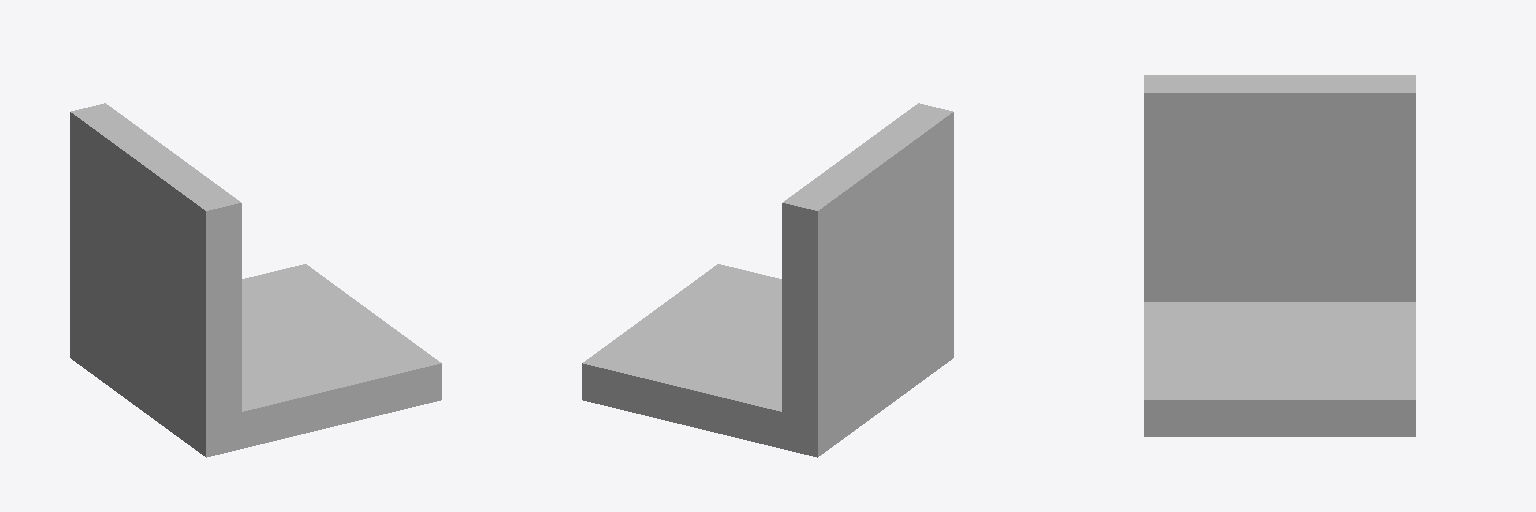
Rendered from hs_wall_bottom.obj.
The picture shows the model from 3 angles: view 1: azimuth 30°, elevation 25°; view 2: azimuth 150°, elevation 25°; view 3: azimuth 270°, elevation 25°; orthographic projection.
Visible parts, largest first — view 1: wall_bottom_Cube.003; view 2: wall_bottom_Cube.003; view 3: wall_bottom_Cube.003.
Boxes of the visible parts, <box> form: wall_bottom_Cube.003: <box>70,103,441,457</box>; wall_bottom_Cube.003: <box>582,103,953,457</box>; wall_bottom_Cube.003: <box>1144,75,1415,436</box>.
Bounding box in the file's own units: 2 × 2 × 2.